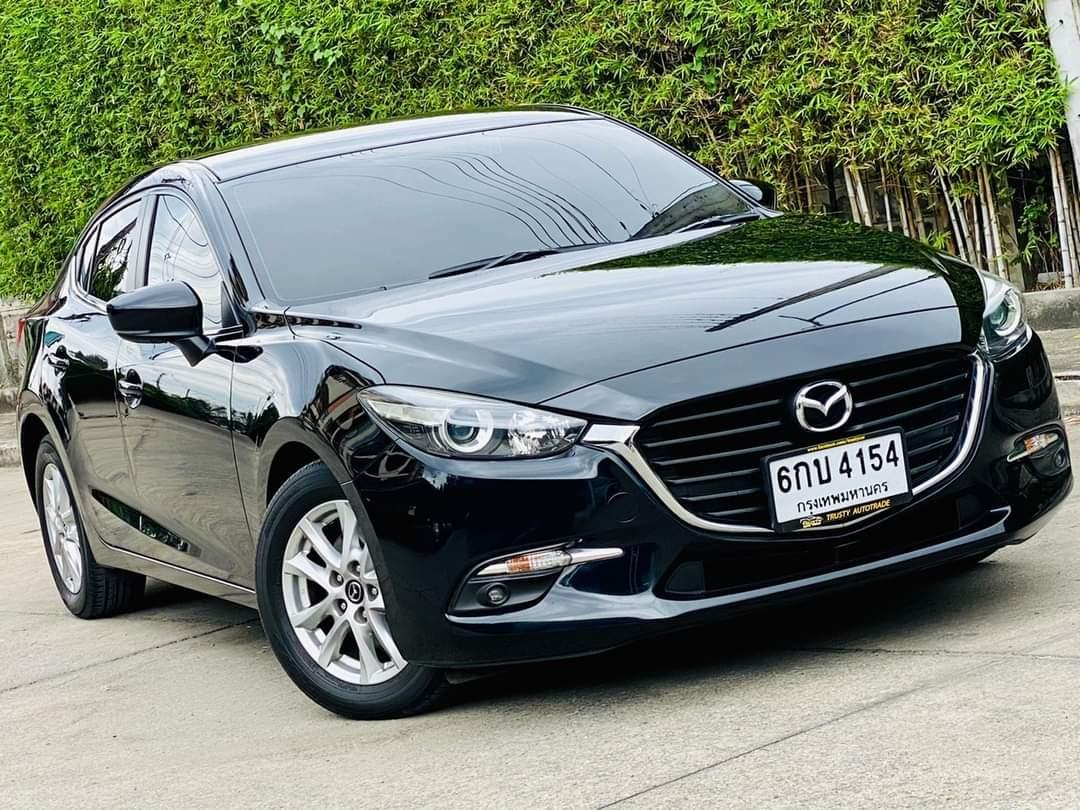license-plate: (758, 418, 918, 538)
